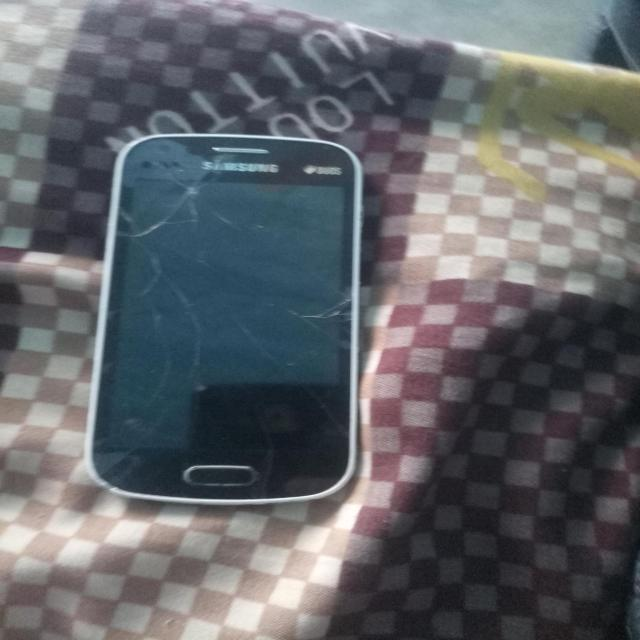Smartphone: (48, 110, 376, 510)
